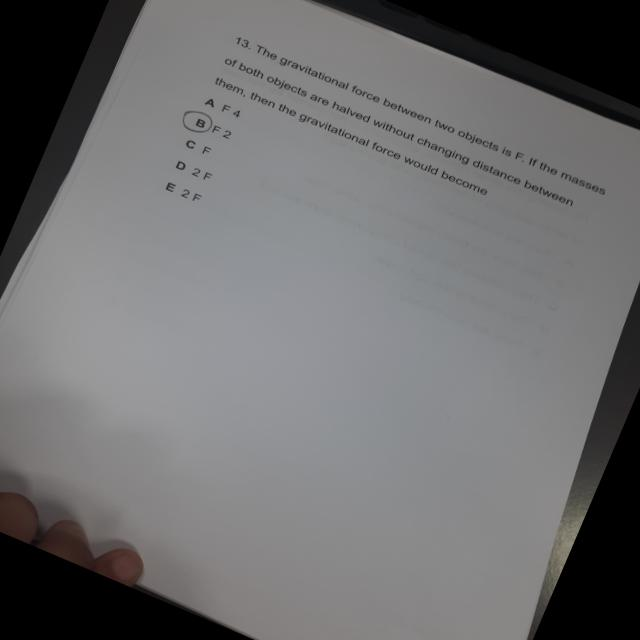B: (176, 105, 220, 141)
